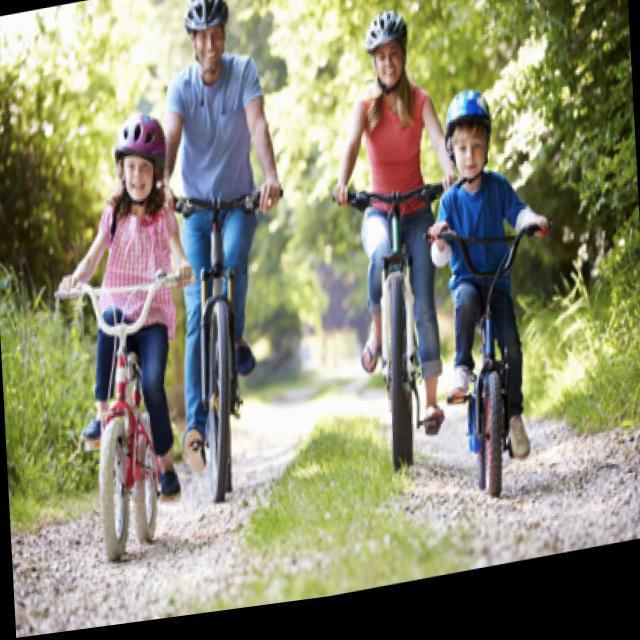Helmet: (437, 83, 505, 191), (106, 102, 171, 209), (356, 4, 425, 92), (178, 0, 238, 78)
